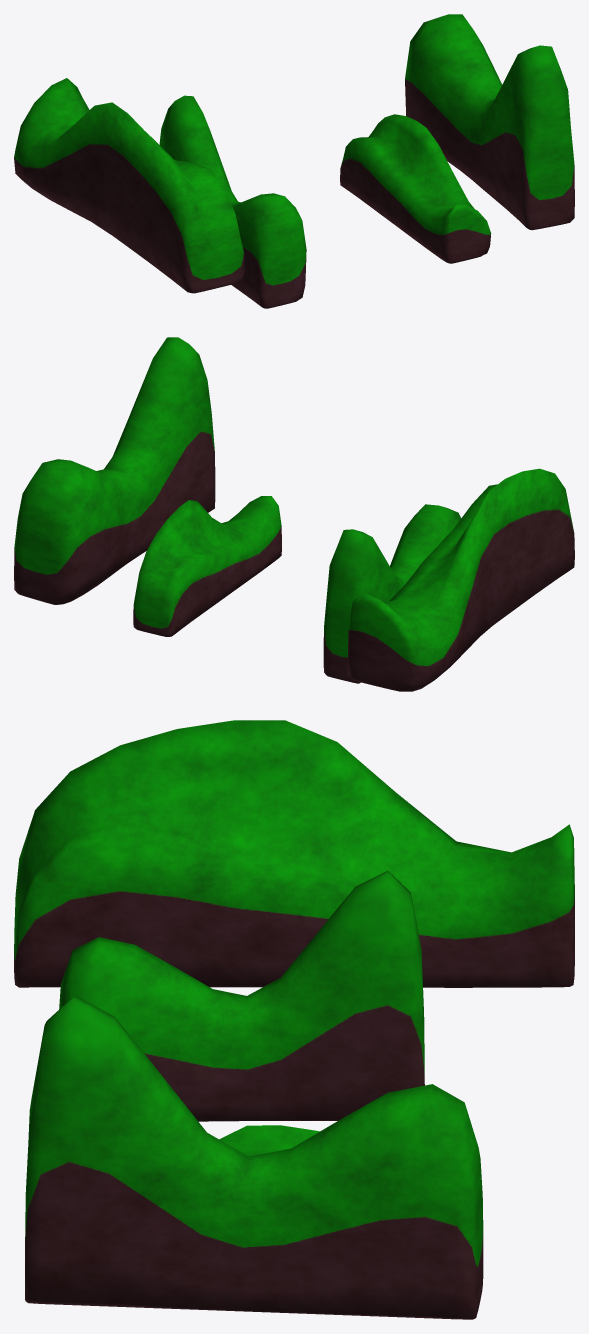
File: Mountains.fbx
The picture shows the model from 3 angles, top to bottom: view 1: azimuth 30°, elevation 25°; view 2: azimuth 150°, elevation 25°; view 3: azimuth 270°, elevation 25°; orthographic projection. The views are drawn at different scales.
Visible parts, largest first — view 1: Mountains; view 2: Mountains; view 3: Mountains.
Part boxes in pixels (x1,y1,x2,y2): Mountains: [14, 14, 574, 308]; Mountains: [14, 337, 574, 691]; Mountains: [14, 720, 574, 1319].
Bounding box in the file's own units: 12.04 × 8.06 × 5.18.
1 material, 1 textured.
